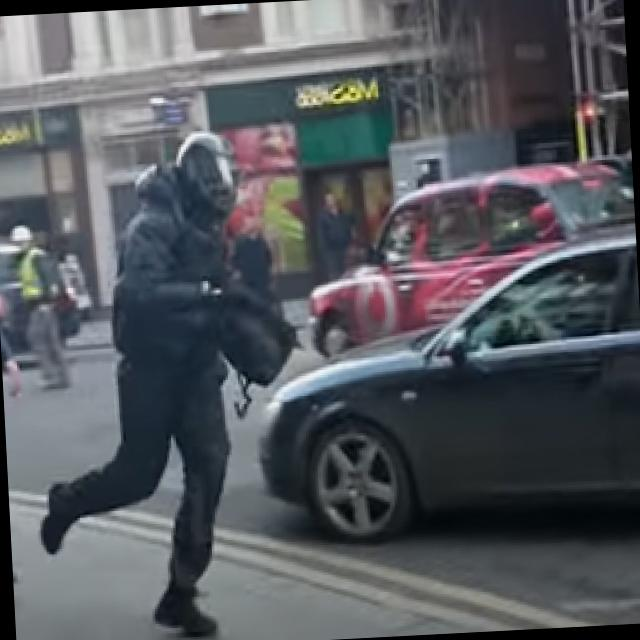person: (20, 123, 314, 640), (8, 226, 76, 391), (229, 209, 287, 327), (310, 188, 360, 280)
